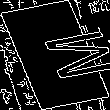M_W: (9, 26, 101, 84)
